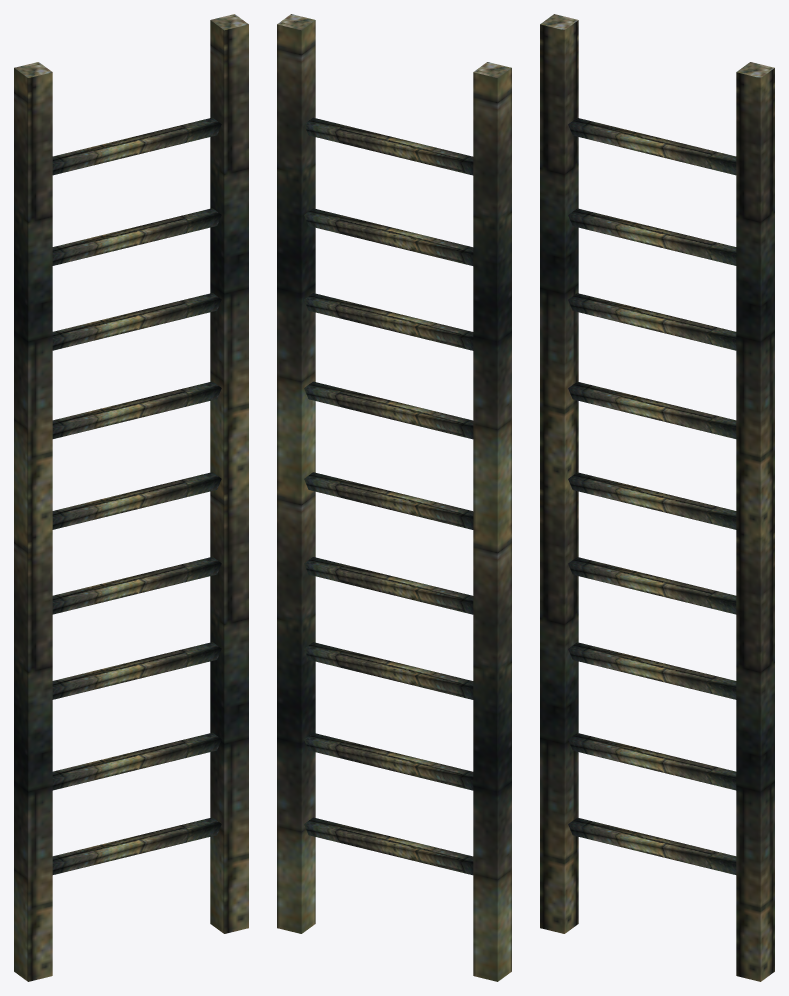
Rendered from Stair01.obj.
3 views of the same model, side by side, from view 1: azimuth 30°, elevation 25°; view 2: azimuth 150°, elevation 25°; view 3: azimuth 330°, elevation 25° (orthographic).
Visible parts, largest first — view 1: Mesh_0; view 2: Mesh_0; view 3: Mesh_0.
Part boxes in pixels (<box>): Mesh_0: <box>14,14,248,981</box>; Mesh_0: <box>277,14,511,981</box>; Mesh_0: <box>540,14,774,981</box>.
Size of the model in its own units: 0.8432 by 3.3 by 0.0938.
Materials: 1 (1 with a texture image).
